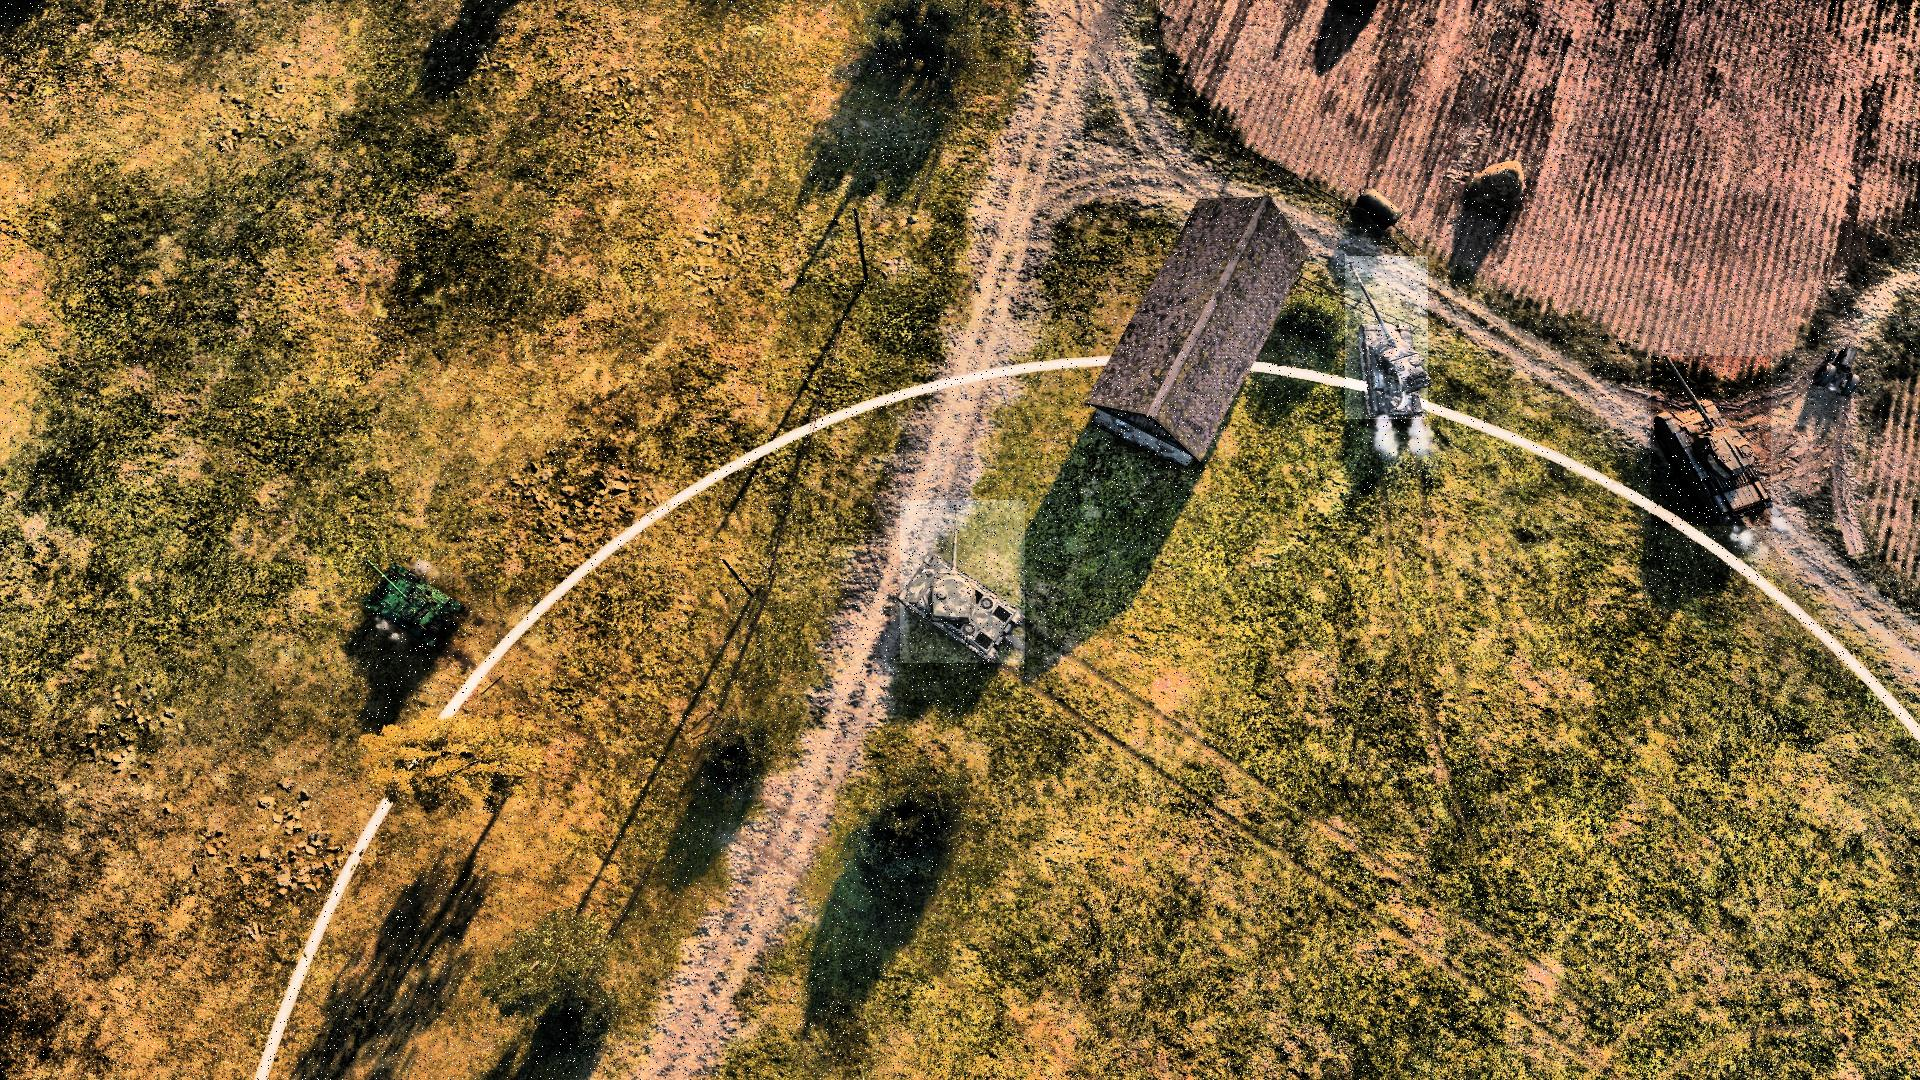military-vehicle: (1652, 356, 1772, 526), (901, 500, 1025, 663), (1345, 257, 1428, 419), (363, 556, 465, 649)
